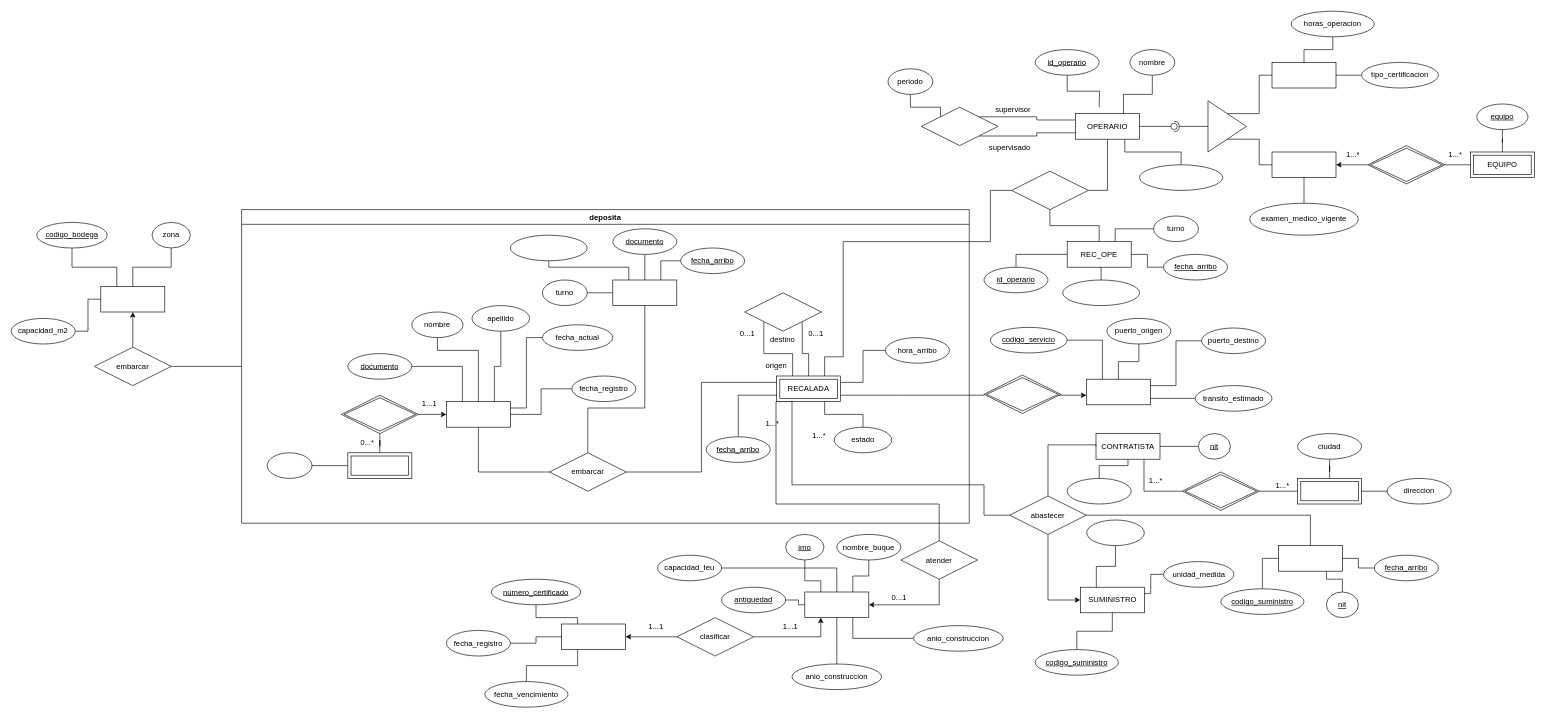
Image size: 1546x719. Some labels were removed from this diagram. The shapes that lost their labels are listed below. From the top down, each one's centre as x and y in pixels, then its label:
[1303,75]: GRUERO
[959,126]: supervisar
[1181,177]: licencia_portuarai
[1303,164]: ESTIBADOR
[1406,164]: mnanejar
[1049,190]: cuadrillar
[548,248]: horas_trabajadas
[132,299]: BODEGA
[644,292]: IMP_REC
[782,311]: transbordar
[1101,292]: horas_reabajadas
[1022,394]: identificar
[1118,392]: SERVICIO
[379,414]: portar
[478,414]: IMPORTADOR
[289,465]: imp_corr
[379,465]: CORREO
[1099,491]: razon_social
[1220,490]: visitar
[1329,491]: SEDE
[1115,532]: descripcion
[1310,558]: REC_SUM_CON
[836,604]: BUQUE
[593,636]: CERTIFICADO
